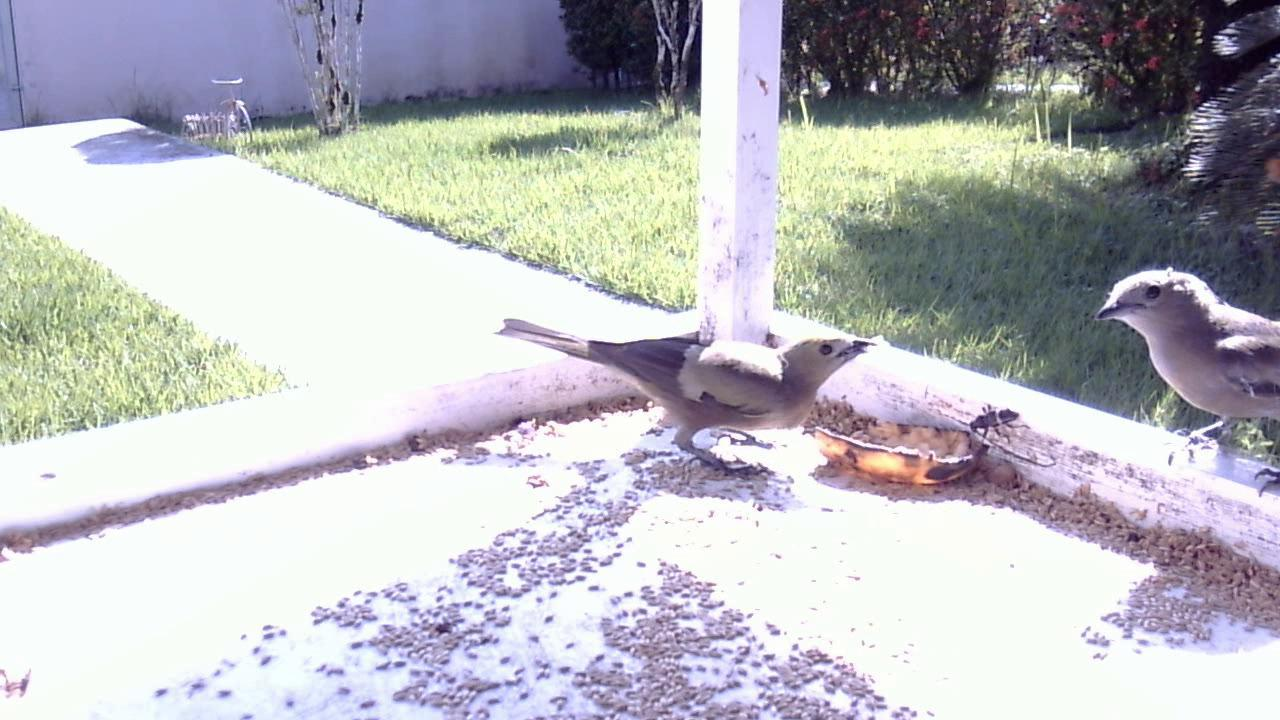sanhaco_do_coqueiro: (488, 307, 874, 491), (1086, 259, 1280, 505)
